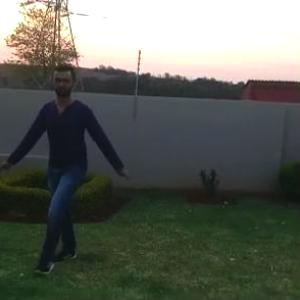land: (12, 62, 132, 262)
